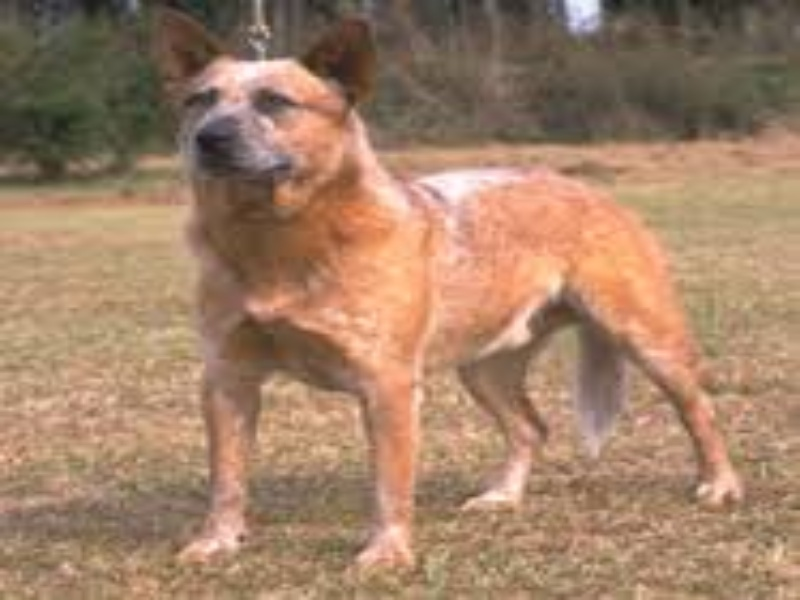dog: (142, 8, 735, 588)
